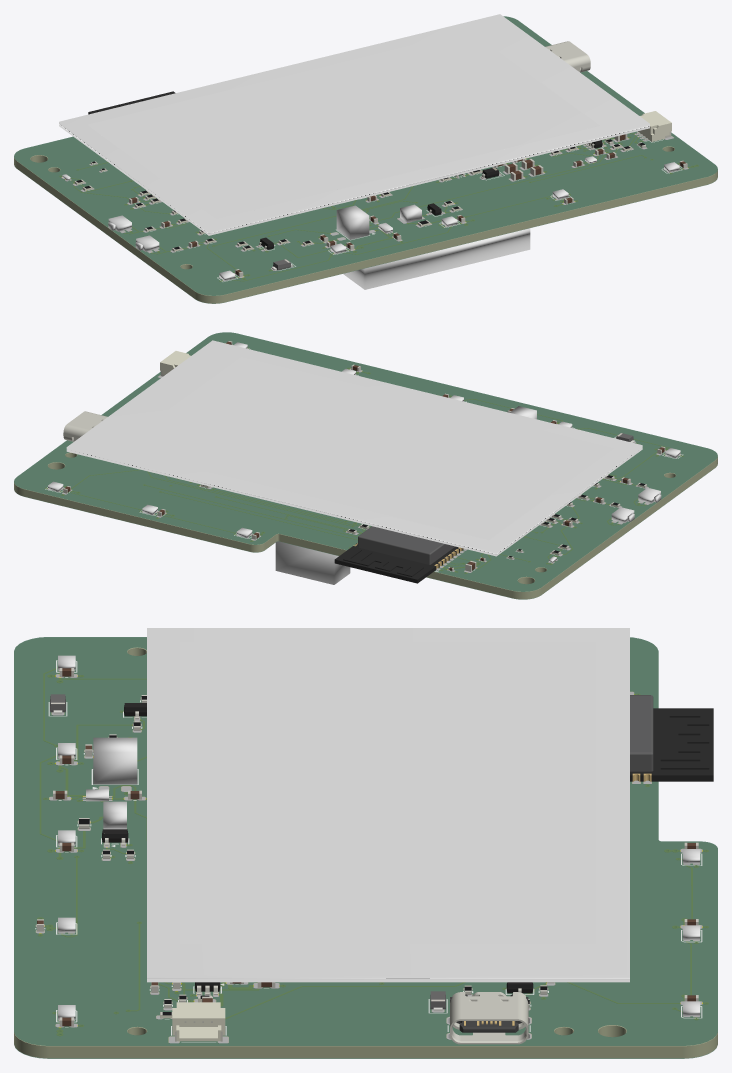
Rendered from board.glb.
The picture shows the model from 3 angles, top to bottom: view 1: azimuth 30°, elevation 25°; view 2: azimuth 150°, elevation 25°; view 3: azimuth 270°, elevation 25°; orthographic projection. The views are drawn at different scales.
Parts seen in each view (by area): view 1: =>[0:1:1:49], =>[0:1:1:75], =>[0:1:1:73], =>[0:1:1:65], =>[0:1:1:69], =>[0:1:1:39], =>[0:1:1:55], =>[0:1:1:43], =>[0:1:1:74]; view 2: =>[0:1:1:49], =>[0:1:1:75], =>[0:1:1:73], =>[0:1:1:21], =>[0:1:1:67], =>[0:1:1:55], =>[0:1:1:69], =>[0:1:1:74]; view 3: =>[0:1:1:49], =>[0:1:1:75], =>[0:1:1:73], =>[0:1:1:21], =>[0:1:1:55], =>[0:1:1:39], =>[0:1:1:43], =>[0:1:1:69], =>[0:1:1:68], =>[0:1:1:71], =>[0:1:1:74], =>[0:1:1:23].
Boxes of the visible parts, x1,y1,x2,y2 form: =>[0:1:1:49]: [59, 14, 649, 235]; =>[0:1:1:75]: [14, 17, 717, 303]; =>[0:1:1:73]: [14, 16, 717, 295]; =>[0:1:1:65]: [343, 228, 530, 289]; =>[0:1:1:69]: [61, 133, 688, 281]; =>[0:1:1:39]: [336, 205, 369, 239]; =>[0:1:1:55]: [545, 41, 590, 72]; =>[0:1:1:43]: [636, 111, 671, 141]; =>[0:1:1:74]: [14, 166, 716, 303]; =>[0:1:1:49]: [66, 340, 642, 556]; =>[0:1:1:75]: [14, 333, 717, 599]; =>[0:1:1:73]: [14, 332, 717, 591]; =>[0:1:1:21]: [334, 526, 463, 583]; =>[0:1:1:67]: [275, 541, 350, 584]; =>[0:1:1:55]: [63, 411, 107, 441]; =>[0:1:1:69]: [47, 344, 680, 572]; =>[0:1:1:74]: [14, 465, 717, 599]; =>[0:1:1:49]: [147, 628, 629, 982]; =>[0:1:1:75]: [14, 638, 717, 1058]; =>[0:1:1:73]: [14, 637, 717, 1045]; =>[0:1:1:21]: [630, 695, 713, 781]; =>[0:1:1:55]: [450, 992, 528, 1044]; =>[0:1:1:39]: [93, 737, 137, 784]; =>[0:1:1:43]: [172, 1002, 225, 1041]; =>[0:1:1:69]: [36, 670, 702, 1043]; =>[0:1:1:68]: [37, 669, 708, 1035]; =>[0:1:1:71]: [35, 660, 702, 1042]; =>[0:1:1:74]: [14, 1044, 717, 1058]; =>[0:1:1:23]: [103, 801, 126, 828].
Bounding box in the file's own units: 0.11 × 0.0156 × 0.08.
